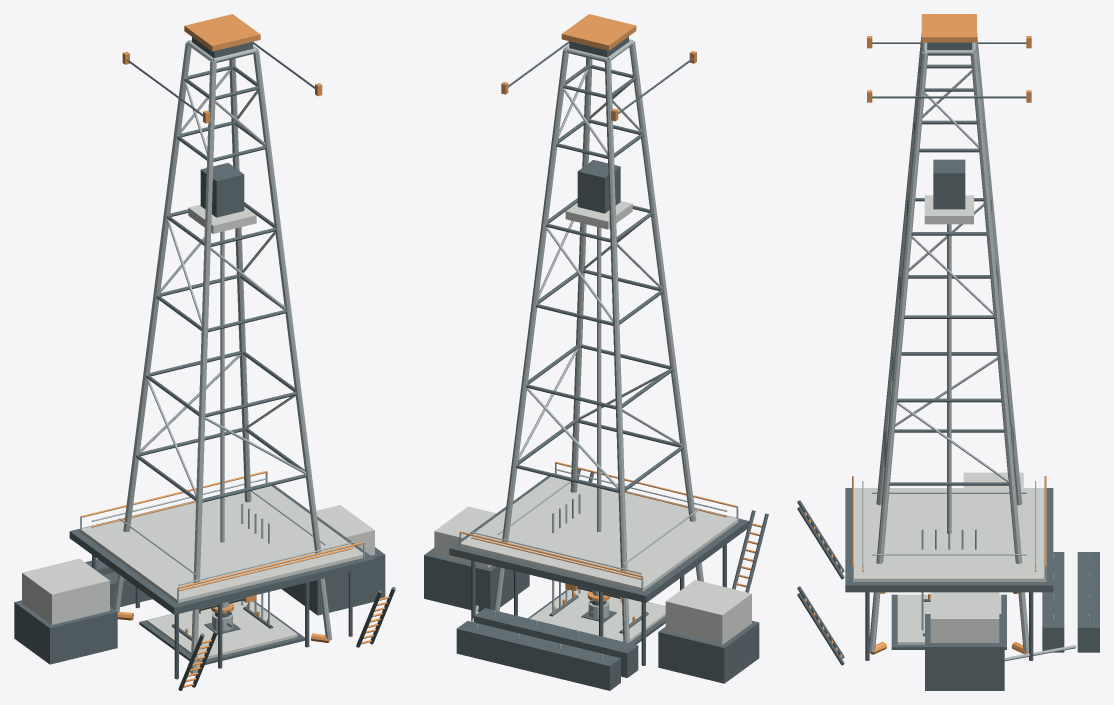
Rendered from active_surface_rig.glb.
3 views of the same model, side by side, from view 1: azimuth 30°, elevation 25°; view 2: azimuth 150°, elevation 25°; view 3: azimuth 270°, elevation 25° (orthographic). The views are drawn at different scales.
Visible parts, largest first — view 1: Representational land drilling installation · material 4, Representational land drilling installation · material 1, Representational land drilling installation · material 0, Representational land drilling installation · material 2; view 2: Representational land drilling installation · material 1, Representational land drilling installation · material 4, Representational land drilling installation · material 0, Representational land drilling installation · material 2; view 3: Representational land drilling installation · material 4, Representational land drilling installation · material 1, Representational land drilling installation · material 0, Representational land drilling installation · material 2.
Boxes of the visible parts, x1,y1,x2,y2 form: Representational land drilling installation · material 4: (22, 204, 374, 660); Representational land drilling installation · material 1: (14, 37, 395, 690); Representational land drilling installation · material 0: (80, 40, 364, 673); Representational land drilling installation · material 2: (80, 14, 389, 687); Representational land drilling installation · material 1: (424, 36, 768, 690); Representational land drilling installation · material 4: (434, 201, 751, 644); Representational land drilling installation · material 0: (459, 39, 738, 659); Representational land drilling installation · material 2: (460, 14, 761, 622); Representational land drilling installation · material 4: (853, 195, 1045, 644); Representational land drilling installation · material 1: (797, 42, 1099, 690); Representational land drilling installation · material 0: (852, 33, 1089, 661); Representational land drilling installation · material 2: (804, 14, 1046, 658).
Size of the model in its own units: 16.5 by 30.1 by 13.68.
